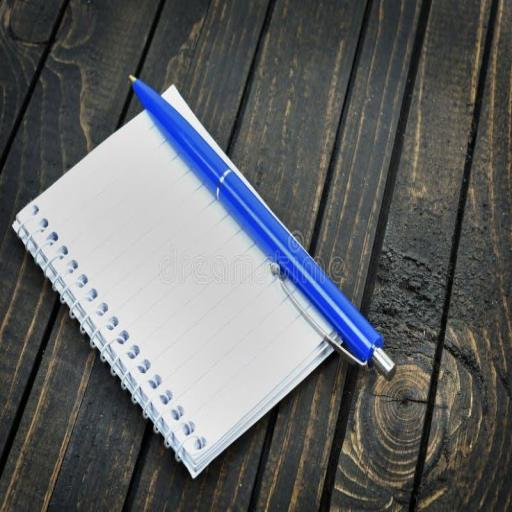paper: (11, 81, 347, 483)
